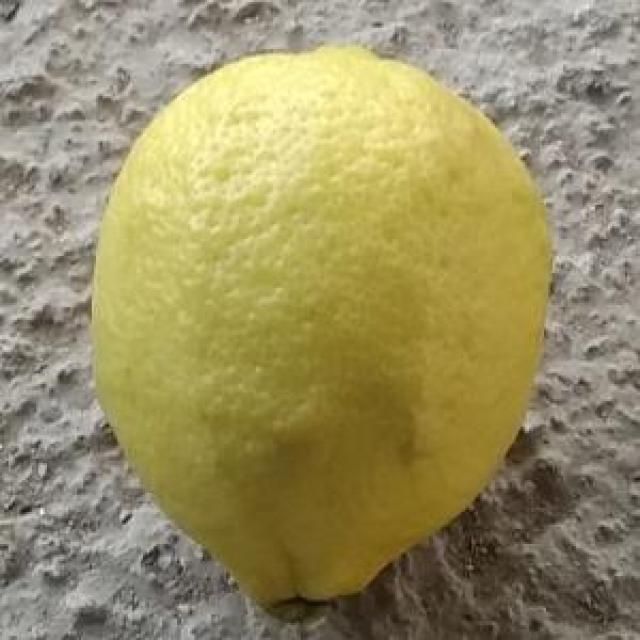lemon: (89, 41, 560, 620)
